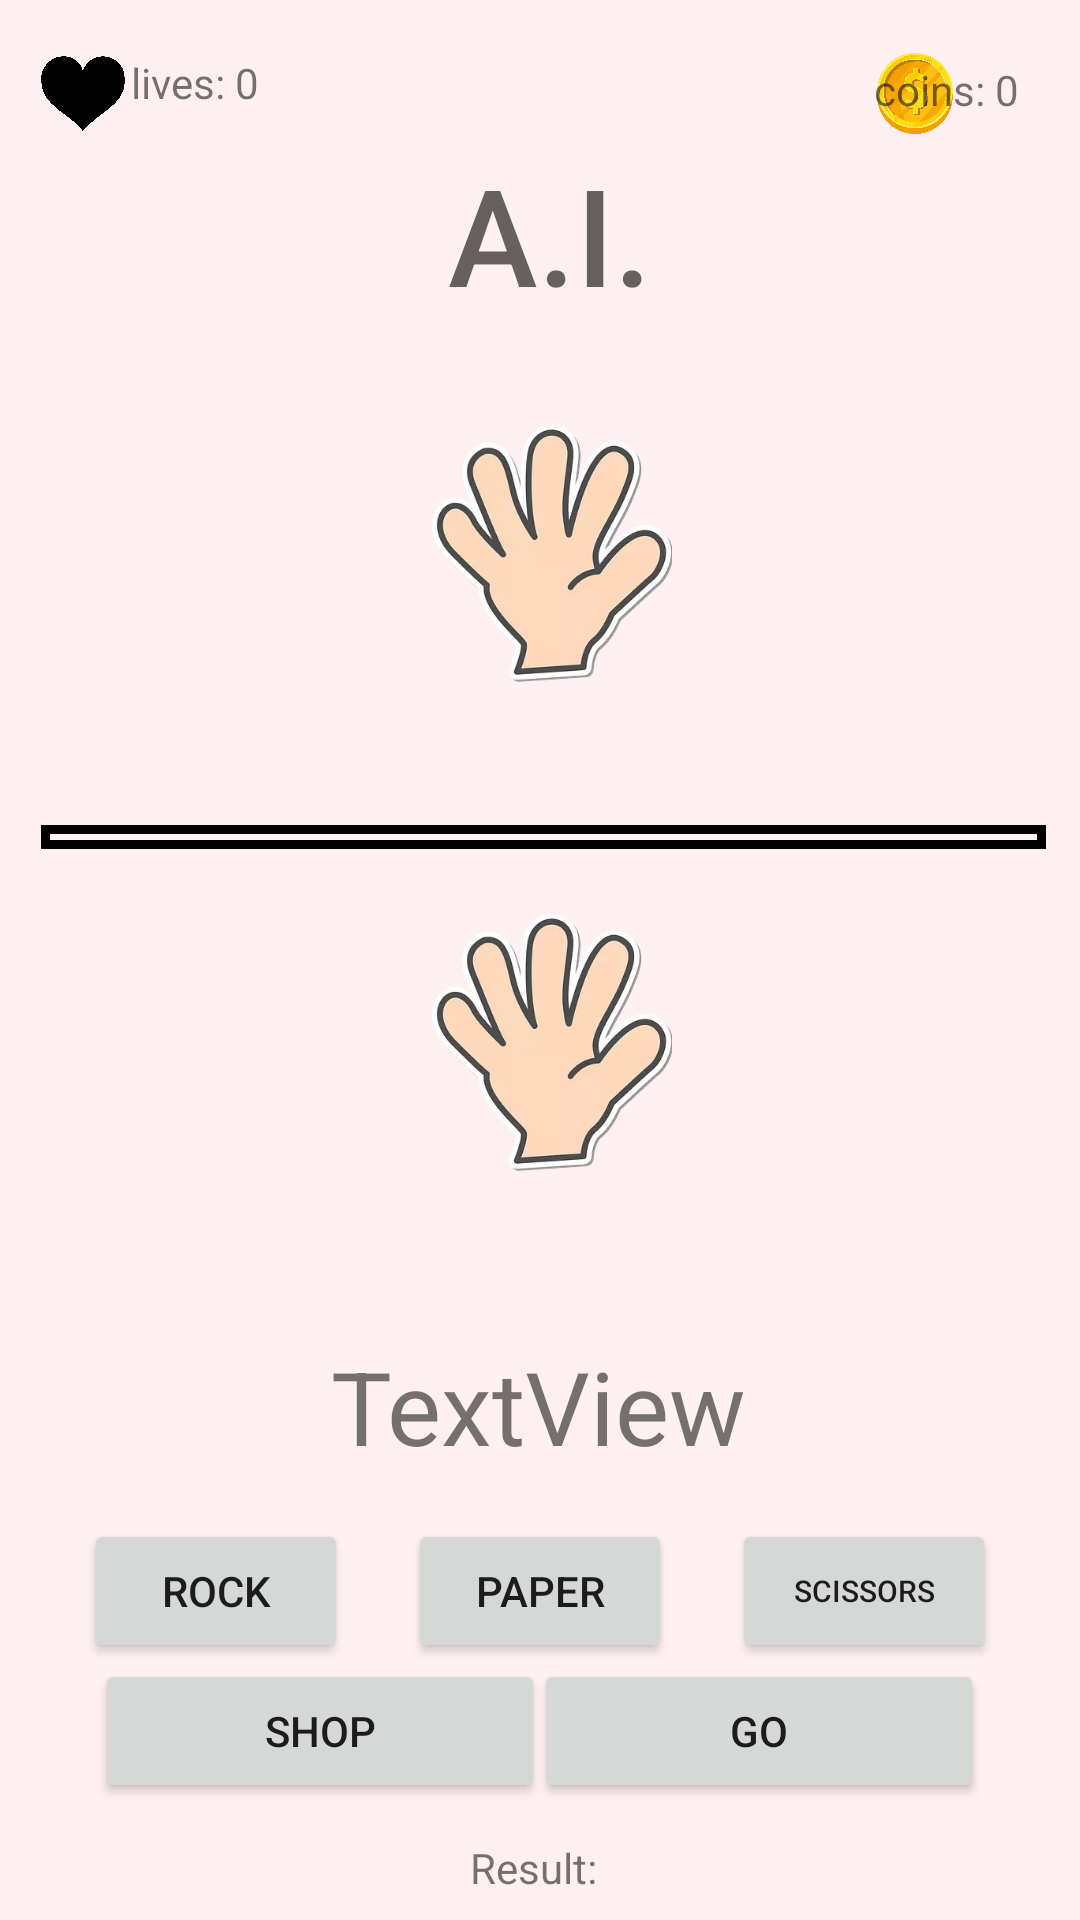

Named icons in this screenshot (1080px x 1920px) and their centers, (x,y):
heart: (83,93)
paper: (554,555), (554,1044)
